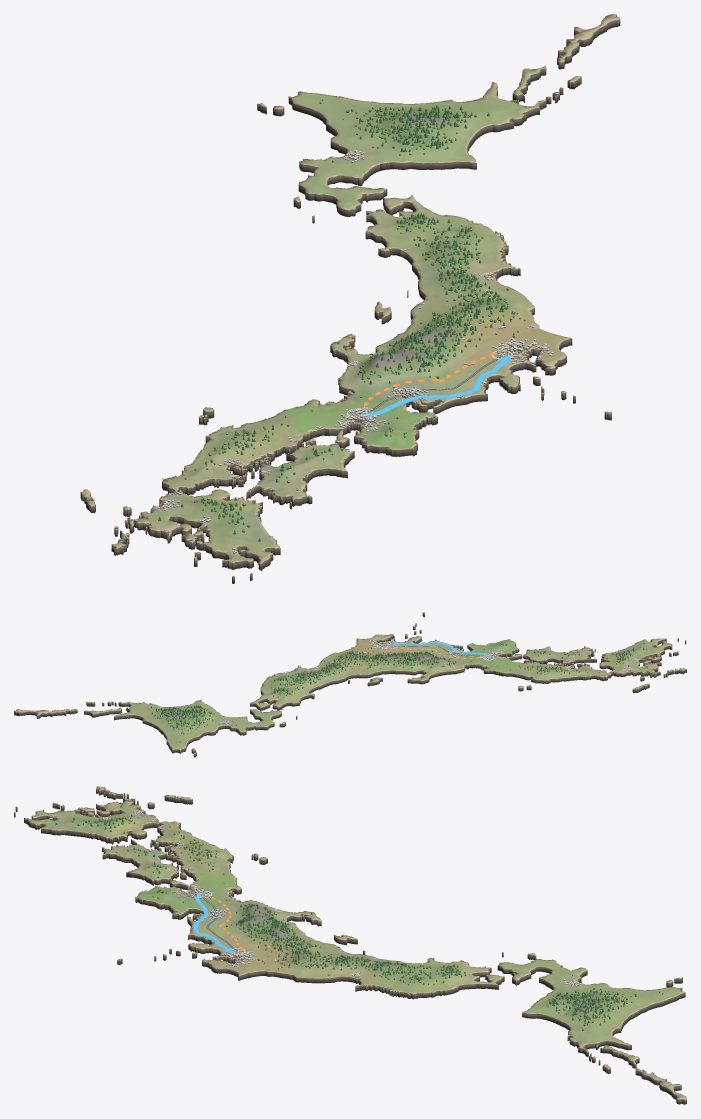
File: japan_diorama_v3.glb
3 views of the same model, one above another, from view 1: azimuth 30°, elevation 25°; view 2: azimuth 150°, elevation 25°; view 3: azimuth 270°, elevation 25° (orthographic). The views are drawn at different scales.
Visible parts, largest first — view 1: land, trees, city; view 2: land, trees, city; view 3: land, trees, city.
Boxes of the visible parts, x1=… form: land: x1=80, y1=14, x2=620, y2=583; trees: x1=158, y1=99, x2=525, y2=541; city: x1=158, y1=150, x2=554, y2=553; land: x1=14, y1=612, x2=686, y2=757; trees: x1=151, y1=642, x2=647, y2=742; city: x1=219, y1=637, x2=661, y2=725; land: x1=14, y1=786, x2=686, y2=1104; trees: x1=55, y1=804, x2=663, y2=1030; city: x1=48, y1=804, x2=580, y2=986.
Bounding box in the file's own units: 163 × 3.62 × 148.
